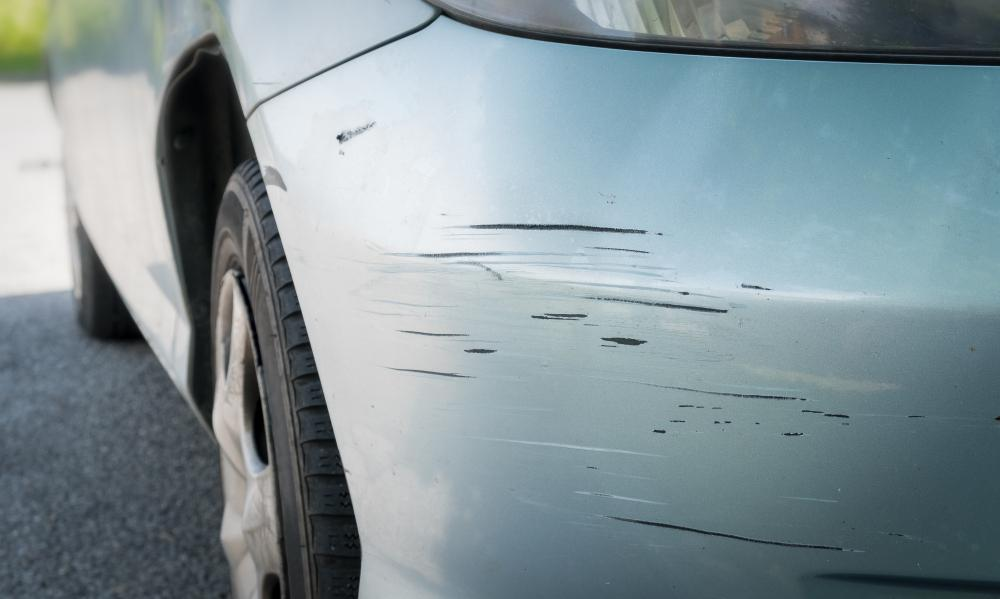scratch: (362, 212, 1000, 566)
